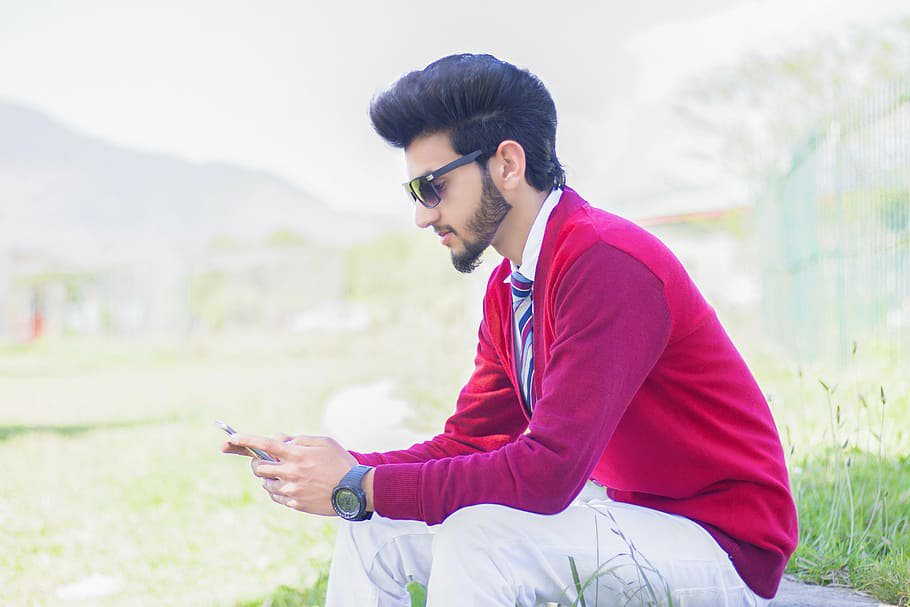noMask: (351, 52, 551, 280)
